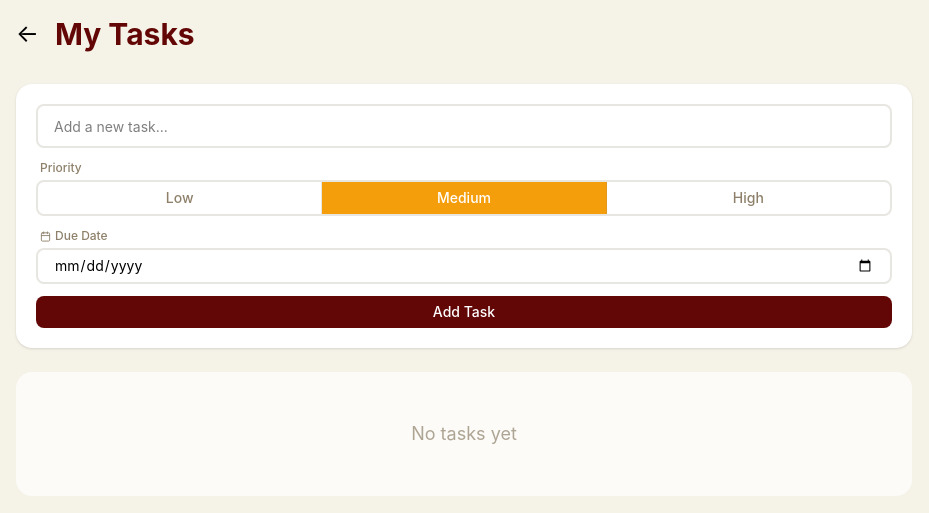
Test: Tasks Hub — integration flows › create task → appears in list with correct name
Type "Fix the sink" into the field with placeholder "Add a new task..." at [464, 126], box left=36, top=104, right=892, bottom=148
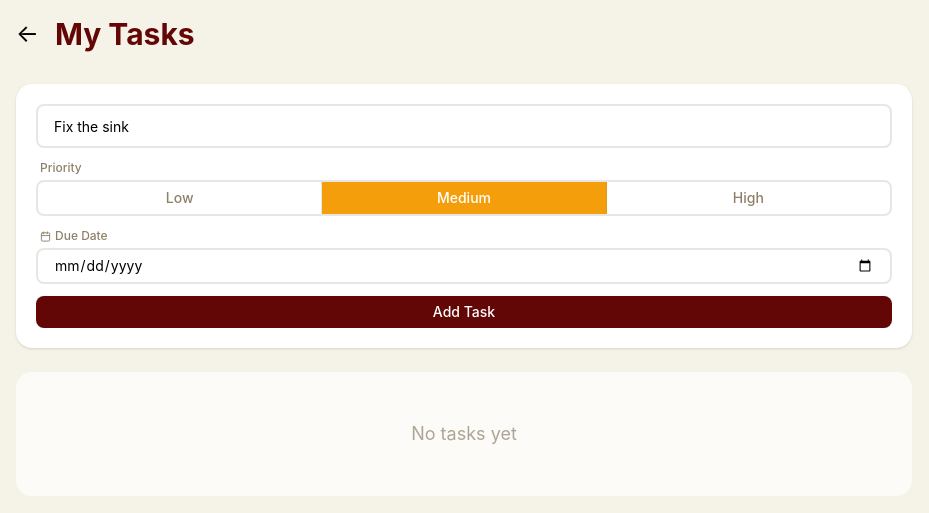
Click the button "Add Task" at [464, 312], box left=36, top=296, right=892, bottom=328
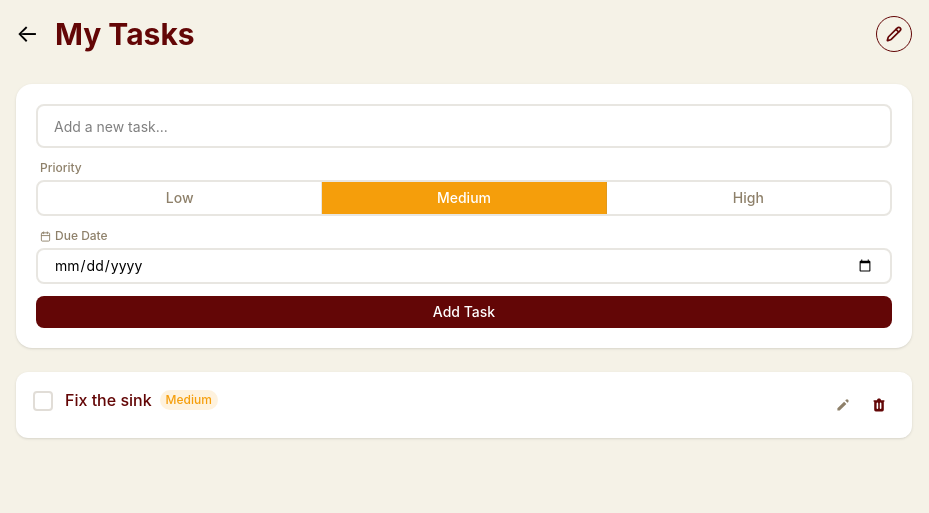
Now the text "Fix the sink" is shown, box left=65, top=389, right=152, bottom=411
